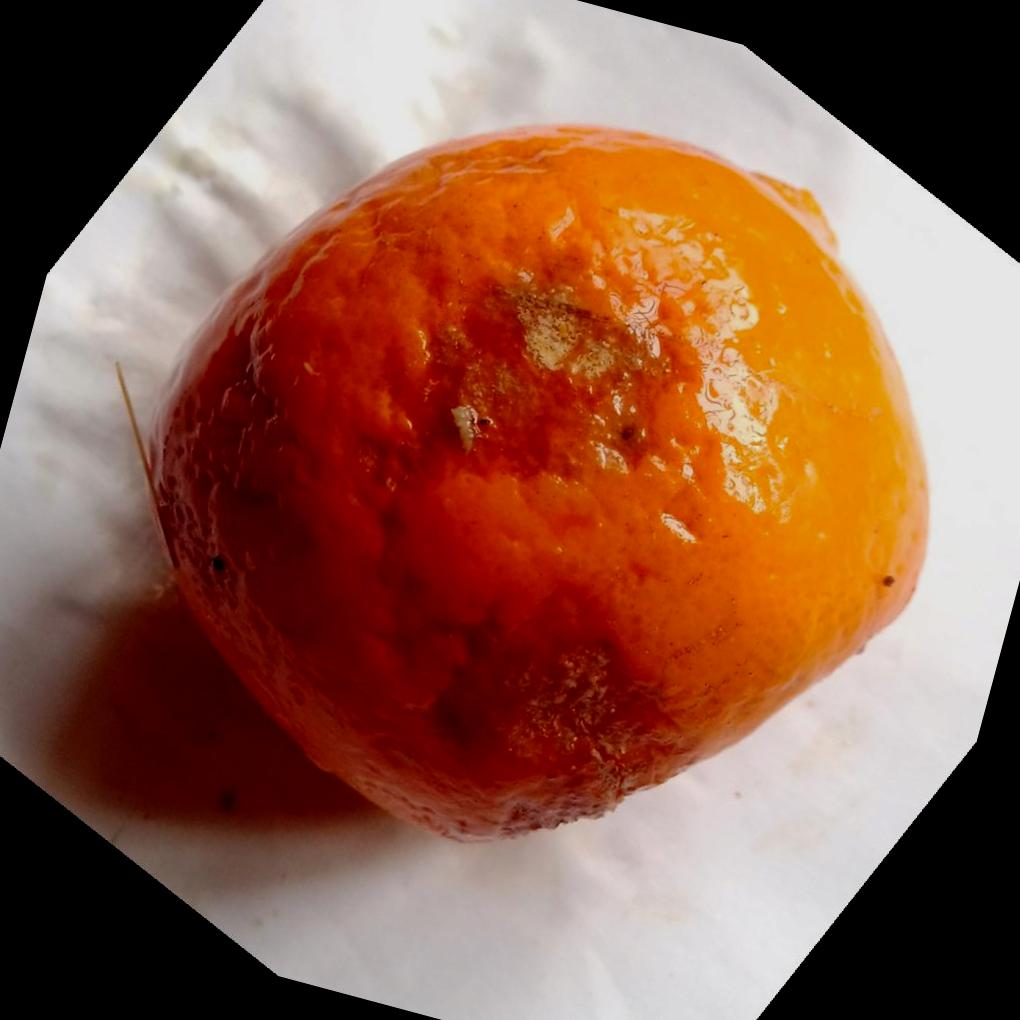FreshOrange: (137, 119, 928, 842)
